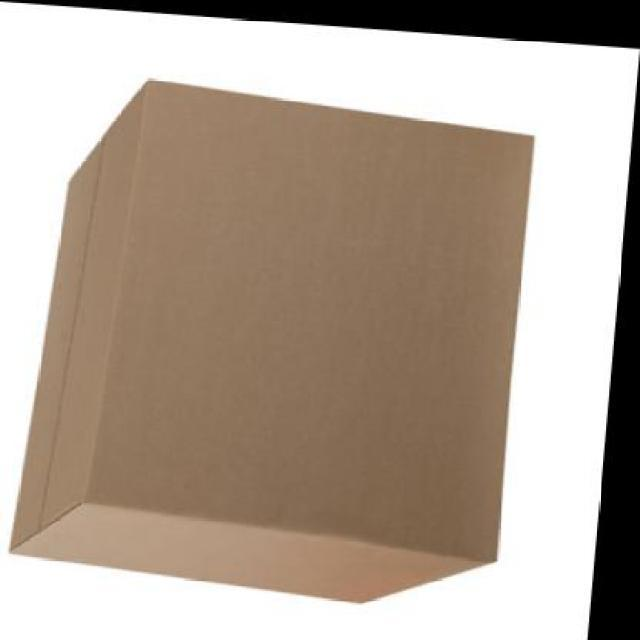box: (15, 70, 534, 606)
